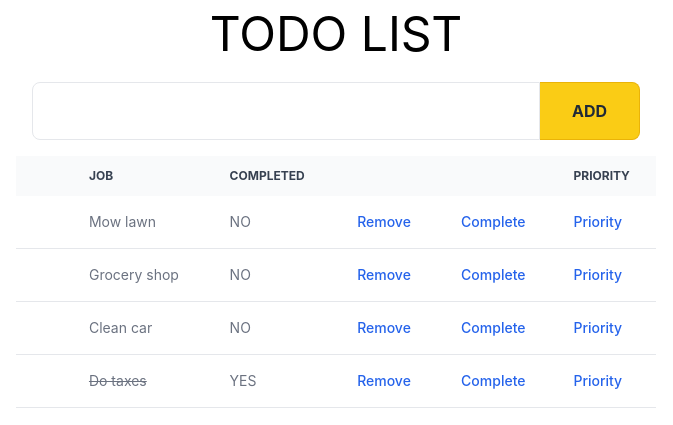
Test case: My Add Todo Test › should change "NO" to "YES" in the "completed" column
Click the link with id "completed-2" at (493, 328), box [461,319,525,336]
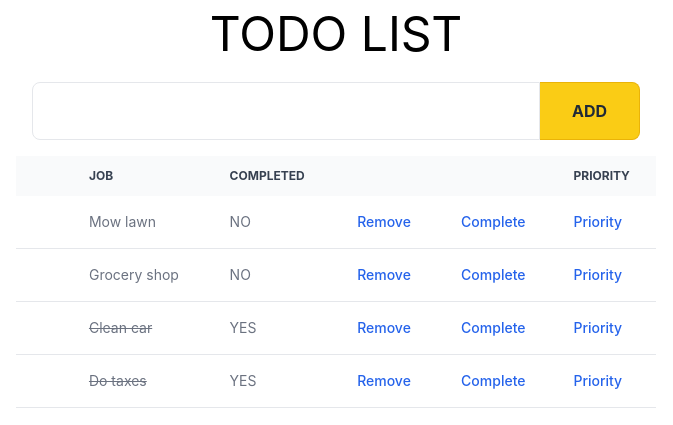
Expected: the text "YES" next to "Clean car" is shown, [230,319,257,336]
